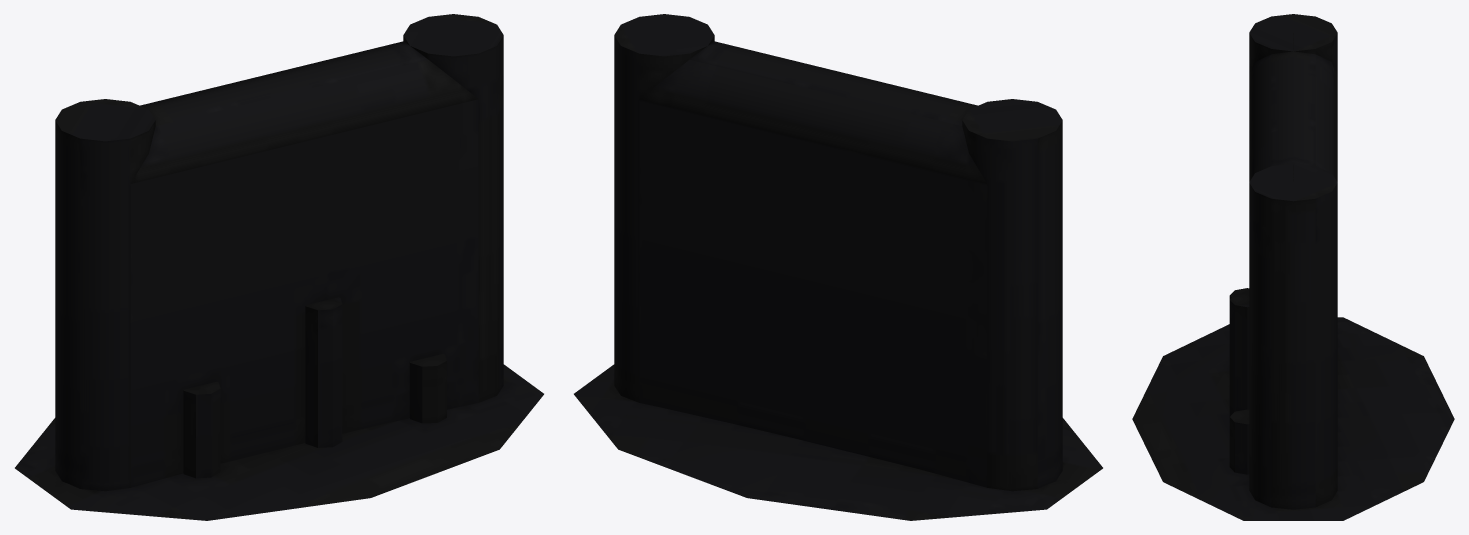
The model's file is trazo_tinta.glb.
The picture shows the model from 3 angles, left to right: view 1: azimuth 30°, elevation 25°; view 2: azimuth 150°, elevation 25°; view 3: azimuth 270°, elevation 25°; orthographic projection. The views are drawn at different scales.
Visible parts, largest first — view 1: trazo_tinta; view 2: trazo_tinta; view 3: trazo_tinta.
Part boxes in pixels (x1,y1,x2,y2): trazo_tinta: (15,14,543,520); trazo_tinta: (574,14,1102,520); trazo_tinta: (1132,14,1454,520).
Bounding box in the file's own units: 2.72 × 1.98 × 1.82.
Materials: 1 (1 with a texture image).
